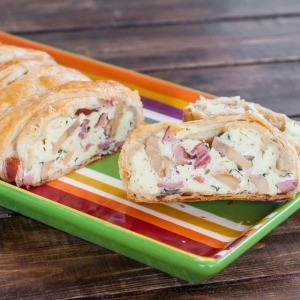egg_brain food: (123, 113, 290, 213), (11, 54, 112, 190)
